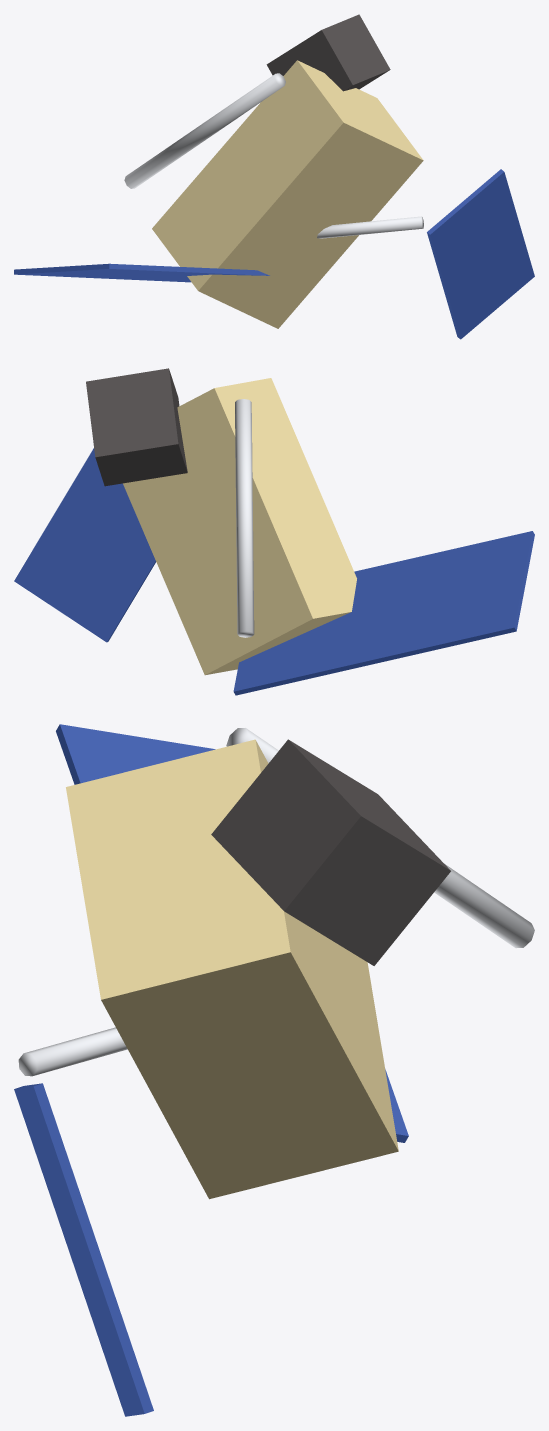
Rendered from debris.glb.
The picture shows the model from 3 angles, top to bottom: view 1: azimuth 30°, elevation 25°; view 2: azimuth 150°, elevation 25°; view 3: azimuth 270°, elevation 25°; orthographic projection. The views are drawn at different scales.
Visible parts, largest first — view 1: debris_hull, debris_panel2, debris_break, debris_pipe, debris_panel, debris_pipe2; view 2: debris_hull, debris_panel, debris_panel2, debris_break, debris_pipe; view 3: debris_hull, debris_break, debris_panel2, debris_panel, debris_pipe, debris_pipe2.
Boxes of the visible parts, left/top/right/bottom form: debris_hull: left=152, top=60, right=423, bottom=328; debris_panel2: left=427, top=169, right=534, bottom=339; debris_break: left=266, top=14, right=390, bottom=91; debris_pipe: left=124, top=73, right=285, bottom=188; debris_panel: left=14, top=263, right=269, bottom=282; debris_pipe2: left=317, top=216, right=423, bottom=238; debris_hull: left=123, top=378, right=356, bottom=675; debris_panel: left=233, top=531, right=534, bottom=695; debris_panel2: left=14, top=448, right=155, bottom=642; debris_break: left=86, top=368, right=187, bottom=486; debris_pipe: left=235, top=399, right=254, bottom=637; debris_hull: left=66, top=739, right=398, bottom=1199; debris_break: left=211, top=739, right=450, bottom=965; debris_panel2: left=14, top=1083, right=153, bottom=1416; debris_panel: left=56, top=724, right=408, bottom=1142; debris_pipe: left=226, top=728, right=534, bottom=948; debris_pipe2: left=18, top=1027, right=127, bottom=1076.
Bounding box in the file's own units: 2.21 × 1.31 × 1.05.
